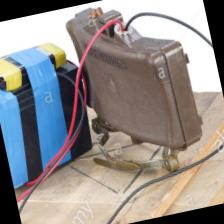MOH-50: (63, 0, 211, 171)
